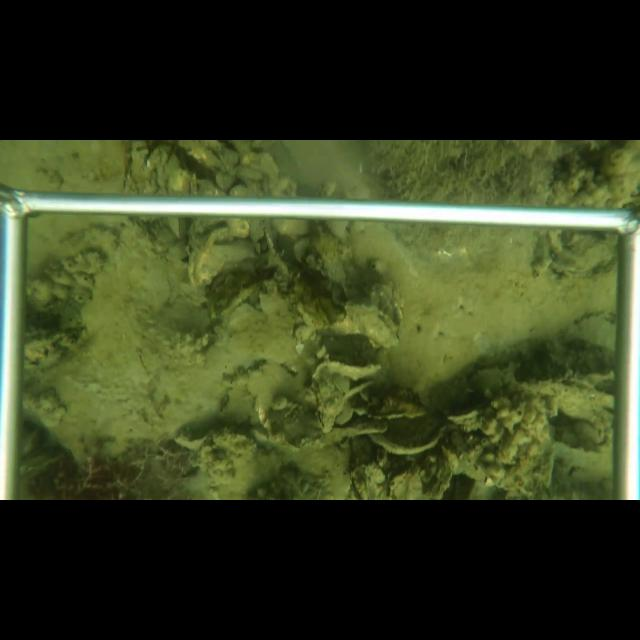Oyster-Closed: (324, 300, 401, 348), (308, 377, 346, 436)
